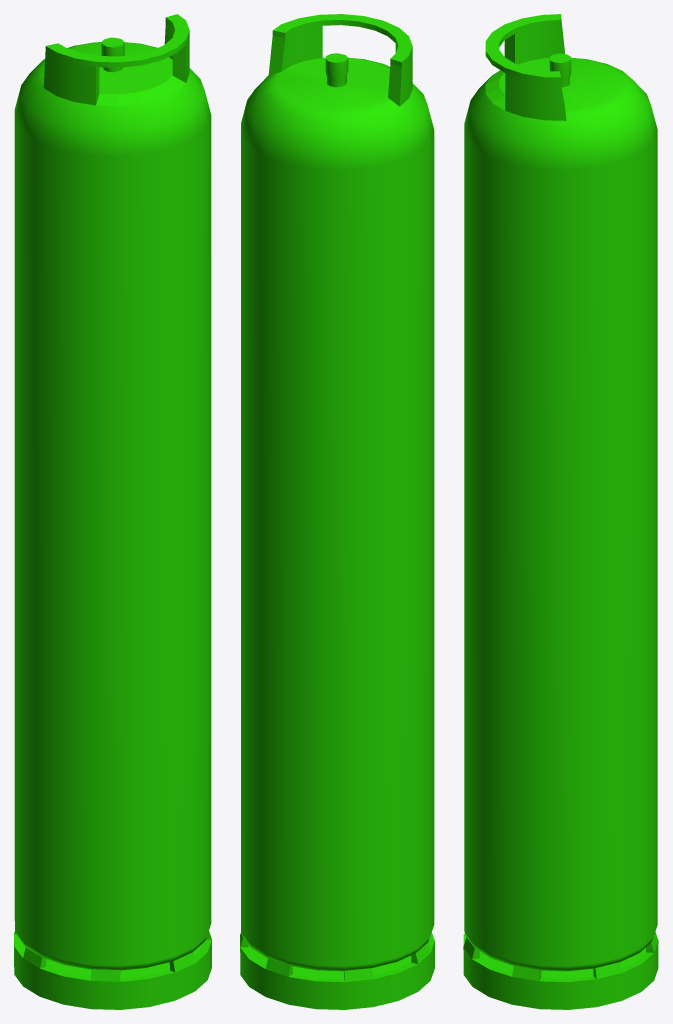
File: Gas_Cylinder_03_Lod0.fbx
3 renders of one model, left to right at view 1: azimuth 30°, elevation 25°; view 2: azimuth 150°, elevation 25°; view 3: azimuth 270°, elevation 25°, orthographic.
Visible parts, largest first — view 1: Gas_Cylinder_03_Lod0; view 2: Gas_Cylinder_03_Lod0; view 3: Gas_Cylinder_03_Lod0.
Boxes of the visible parts, box(x1,y1,x2,y2) form: Gas_Cylinder_03_Lod0: box(14, 14, 211, 1009); Gas_Cylinder_03_Lod0: box(240, 14, 434, 1009); Gas_Cylinder_03_Lod0: box(463, 14, 658, 1009).
Size of the model in its own units: 41.6 by 217 by 41.54.
